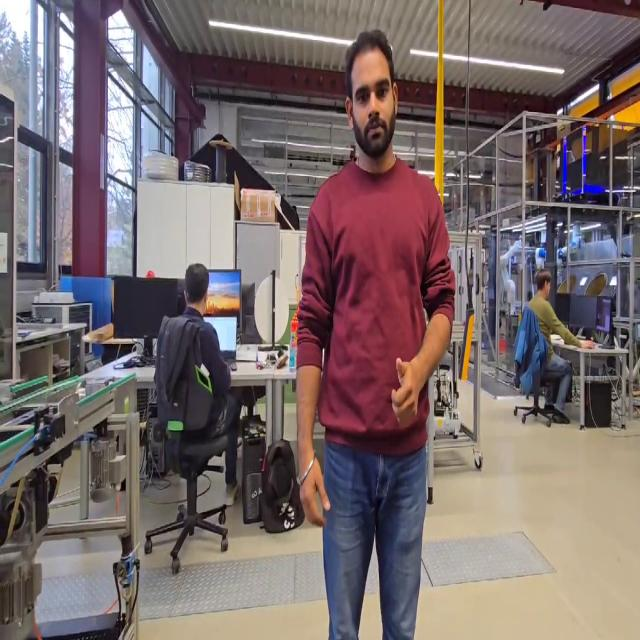thumbs_up: (388, 350, 424, 432)
